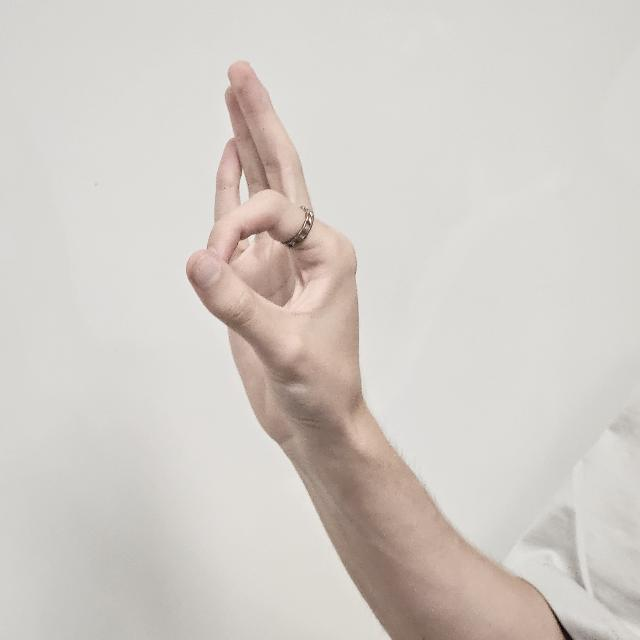Bolinha: (186, 60, 364, 464)
